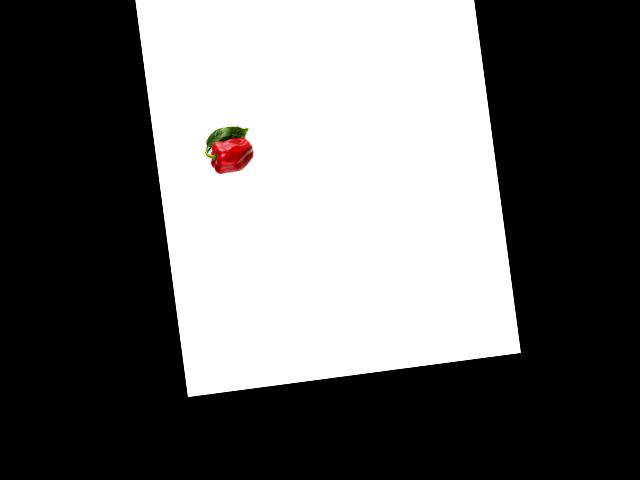bell_pepper: (204, 133, 257, 179)
